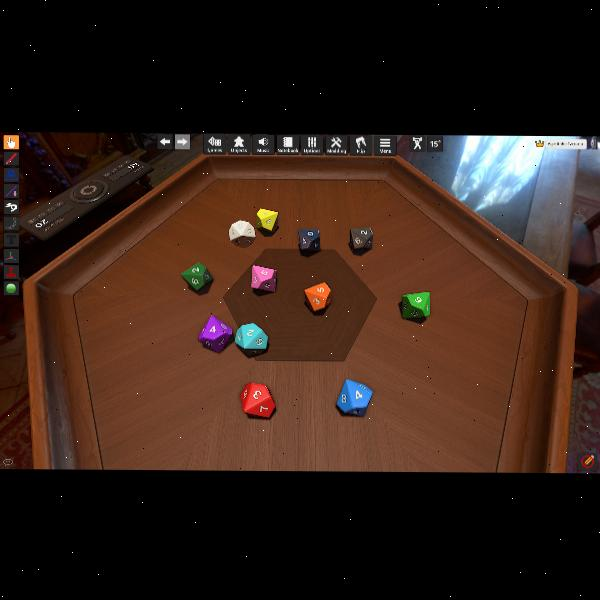d10: (336, 378, 372, 415), (240, 382, 276, 418), (198, 315, 230, 352), (234, 322, 268, 356), (181, 263, 211, 292), (303, 281, 331, 311), (401, 291, 429, 319), (251, 264, 277, 292), (230, 219, 256, 246), (256, 208, 278, 232), (351, 227, 373, 250), (298, 228, 320, 249)
